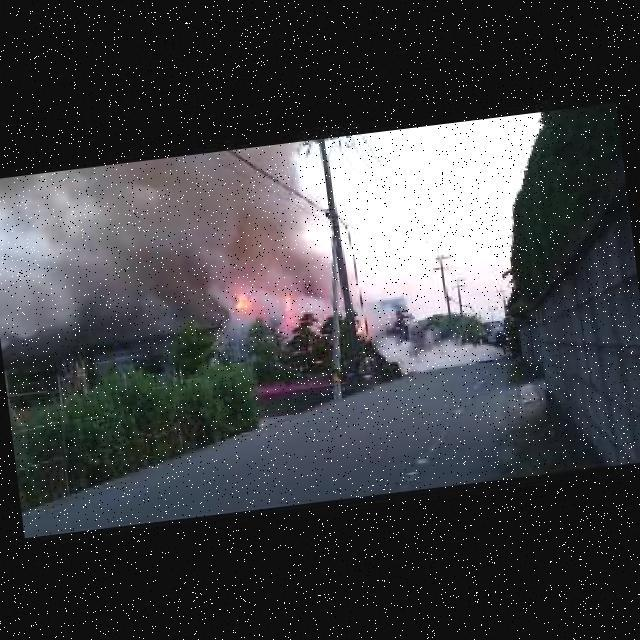Fire: (237, 292, 252, 306), (357, 323, 370, 334), (283, 290, 290, 303)
Smoke: (0, 138, 329, 337), (381, 329, 503, 381)
